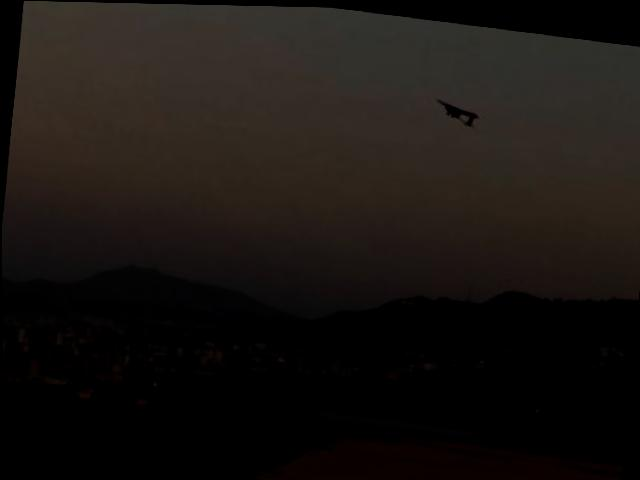uav: (428, 89, 488, 138)
